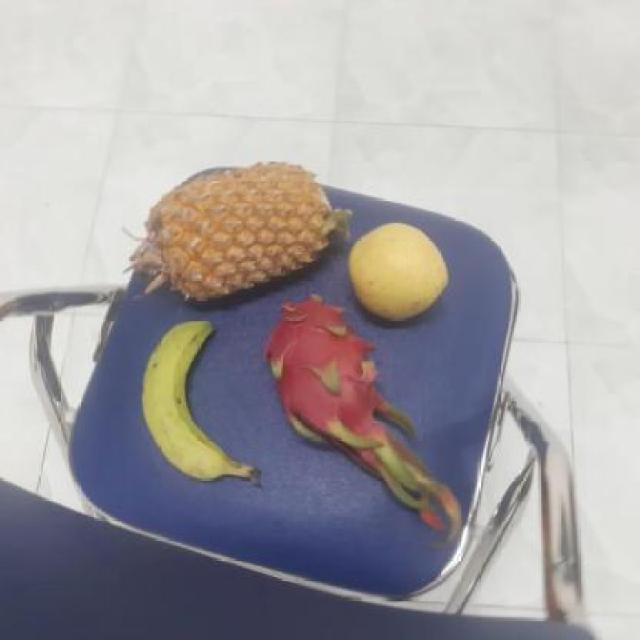banana: (136, 311, 252, 483)
dragon fruit: (266, 293, 389, 441)
pear: (345, 221, 453, 322)
pineapple: (132, 161, 340, 305)
